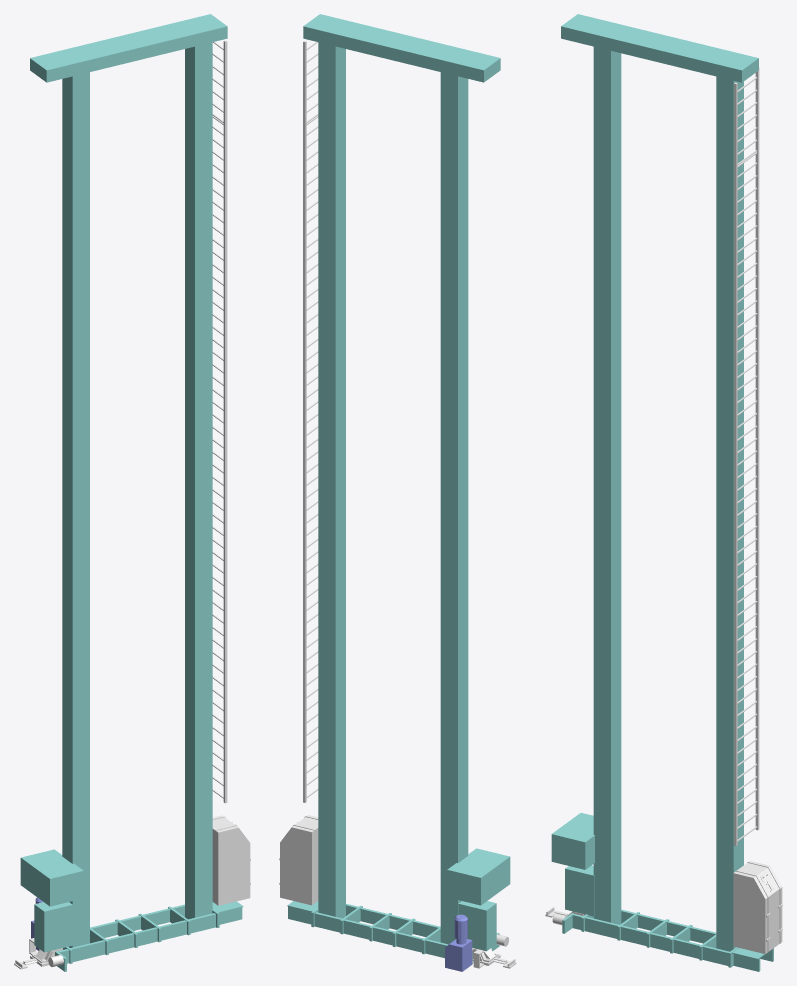
Rendered from 堆垛机.obj.
3 renders of one model, left to right at view 1: azimuth 30°, elevation 25°; view 2: azimuth 150°, elevation 25°; view 3: azimuth 330°, elevation 25°, orthographic.
Visible parts, largest first — view 1: Mesh67 B15_1 ___22_1 Model, Mesh110 Object178_1 ___22_1 Model, Mesh66 B15_1 ___22_1 Model, Mesh63 GANGSI05_1 ___22_1 Model, Mesh82 B15_1 ___22_1 Model, Mesh89 B13_1 ___22_1 Model, Mesh71 B15_1 ___22_1 Model, Mesh81 B15_1 ___22_1 Model, Mesh90 B13_1 ___22_1 Model, Mesh65 B15_1 ___22_1 Model; view 2: Mesh67 B15_1 ___22_1 Model, Mesh110 Object178_1 ___22_1 Model, Mesh66 B15_1 ___22_1 Model, Mesh64 GANGSI05_1 ___22_1 Model, Mesh82 B15_1 ___22_1 Model, Mesh89 B13_1 ___22_1 Model, Mesh65 B15_1 ___22_1 Model, Mesh81 B15_1 ___22_1 Model, Mesh71 B15_1 ___22_1 Model, Mesh90 B13_1 ___22_1 Model, Mesh103 Object183_1 ___22_1 Model; view 3: Mesh110 Object178_1 ___22_1 Model, Mesh67 B15_1 ___22_1 Model, Mesh66 B15_1 ___22_1 Model, Mesh64 GANGSI05_1 ___22_1 Model, Mesh63 GANGSI05_1 ___22_1 Model, Mesh89 B13_1 ___22_1 Model, Mesh71 B15_1 ___22_1 Model, Mesh82 B15_1 ___22_1 Model, Mesh81 B15_1 ___22_1 Model, Mesh90 B13_1 ___22_1 Model, Mesh65 B15_1 ___22_1 Model.
Boxes of the visible parts, bbox=[...] form: Mesh67 B15_1 ___22_1 Model: bbox=[185, 42, 212, 919]; Mesh110 Object178_1 ___22_1 Model: bbox=[62, 72, 89, 947]; Mesh66 B15_1 ___22_1 Model: bbox=[30, 14, 227, 82]; Mesh63 GANGSI05_1 ___22_1 Model: bbox=[223, 40, 227, 803]; Mesh82 B15_1 ___22_1 Model: bbox=[20, 849, 83, 906]; Mesh89 B13_1 ___22_1 Model: bbox=[212, 843, 250, 905]; Mesh71 B15_1 ___22_1 Model: bbox=[57, 913, 215, 963]; Mesh81 B15_1 ___22_1 Model: bbox=[34, 902, 73, 952]; Mesh90 B13_1 ___22_1 Model: bbox=[212, 815, 249, 850]; Mesh65 B15_1 ___22_1 Model: bbox=[93, 907, 184, 937]; Mesh67 B15_1 ___22_1 Model: bbox=[318, 42, 345, 918]; Mesh110 Object178_1 ___22_1 Model: bbox=[440, 72, 468, 944]; Mesh66 B15_1 ___22_1 Model: bbox=[303, 14, 500, 82]; Mesh64 GANGSI05_1 ___22_1 Model: bbox=[303, 40, 306, 802]; Mesh82 B15_1 ___22_1 Model: bbox=[447, 848, 510, 905]; Mesh89 B13_1 ___22_1 Model: bbox=[280, 843, 318, 905]; Mesh65 B15_1 ___22_1 Model: bbox=[314, 914, 472, 963]; Mesh81 B15_1 ___22_1 Model: bbox=[458, 901, 496, 951]; Mesh71 B15_1 ___22_1 Model: bbox=[346, 903, 439, 936]; Mesh90 B13_1 ___22_1 Model: bbox=[280, 815, 318, 850]; Mesh103 Object183_1 ___22_1 Model: bbox=[445, 939, 472, 971]; Mesh110 Object178_1 ___22_1 Model: bbox=[593, 46, 621, 924]; Mesh67 B15_1 ___22_1 Model: bbox=[716, 76, 743, 951]; Mesh66 B15_1 ___22_1 Model: bbox=[561, 14, 758, 82]; Mesh64 GANGSI05_1 ___22_1 Model: bbox=[755, 67, 759, 830]; Mesh63 GANGSI05_1 ___22_1 Model: bbox=[734, 82, 737, 845]; Mesh89 B13_1 ___22_1 Model: bbox=[733, 887, 782, 954]; Mesh71 B15_1 ___22_1 Model: bbox=[572, 914, 729, 965]; Mesh82 B15_1 ___22_1 Model: bbox=[551, 812, 594, 869]; Mesh81 B15_1 ___22_1 Model: bbox=[565, 865, 594, 916]; Mesh90 B13_1 ___22_1 Model: bbox=[733, 861, 781, 899]; Mesh65 B15_1 ___22_1 Model: bbox=[621, 912, 714, 943].
Size of the model in its own units: 2598 by 9863 by 706.
